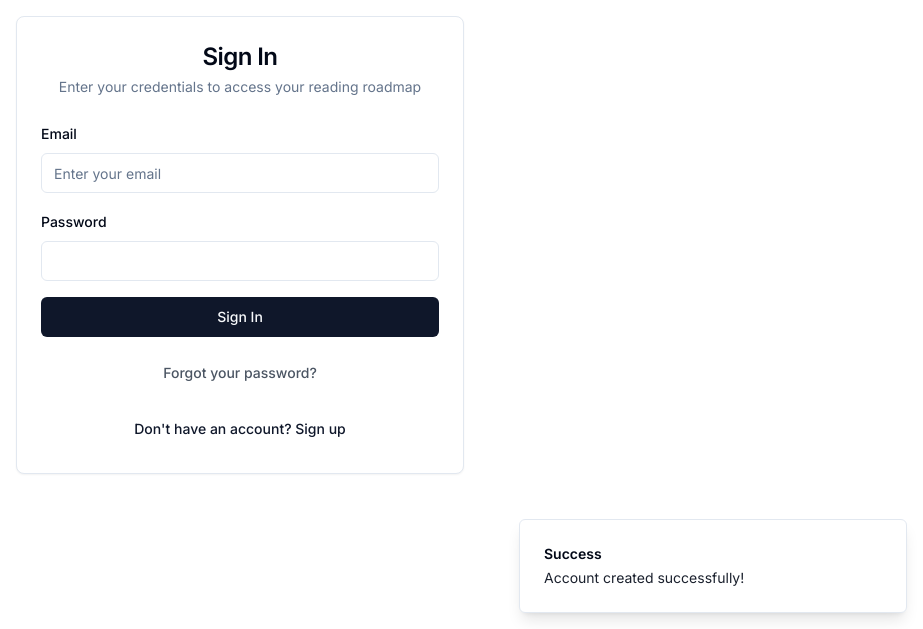
Test: Authentication Form › Registration › should handle registration errors properly
Click the button "Don't have an account? Sign up" at (240, 429), box [118, 409, 362, 449]
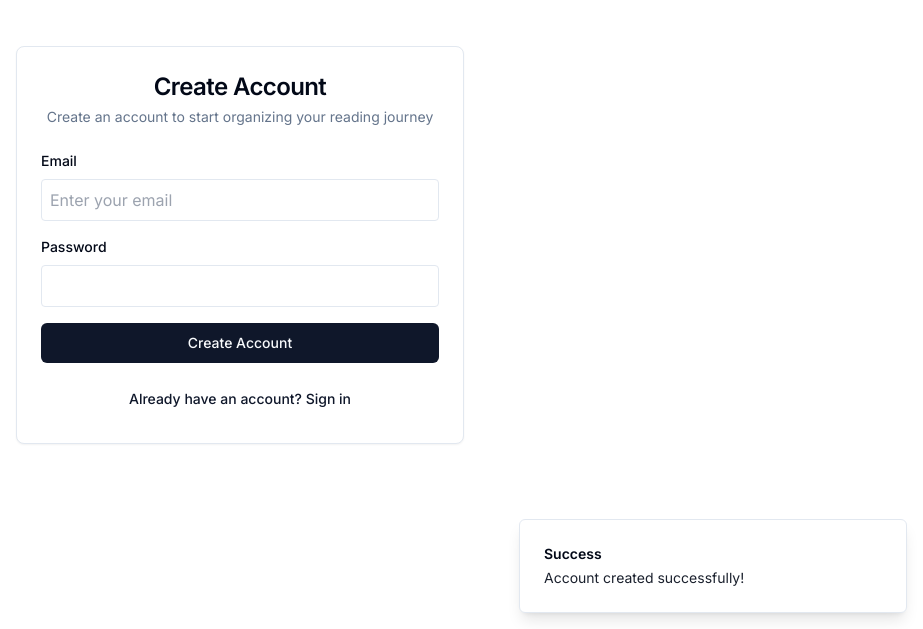
Type "existing@example.com" into the field with placeholder "Enter your email" at (240, 200), box [41, 179, 439, 221]
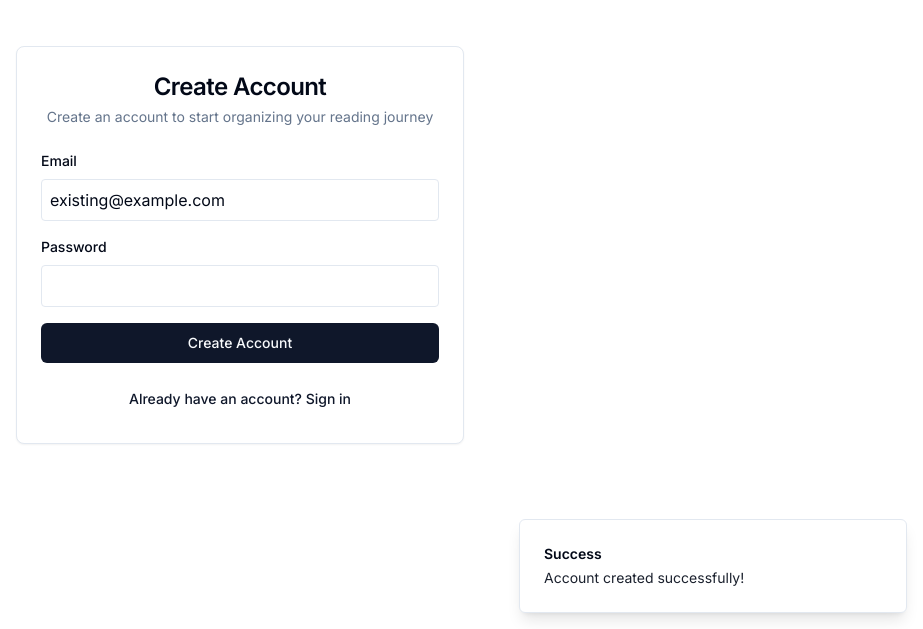
Type "password123" into the password field at (240, 286), box [41, 265, 439, 307]
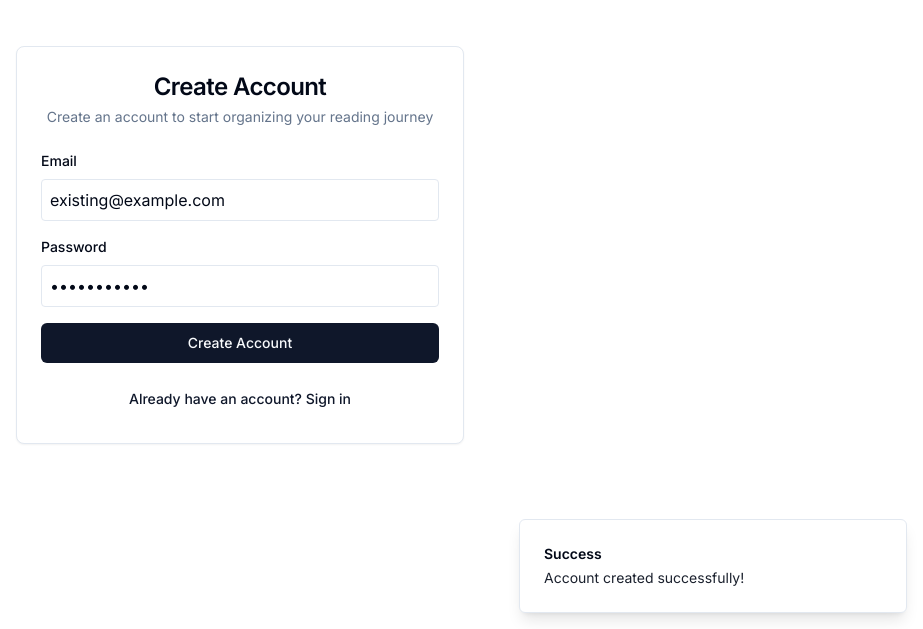
Click the button "Create Account" at (240, 343), box [41, 323, 439, 363]
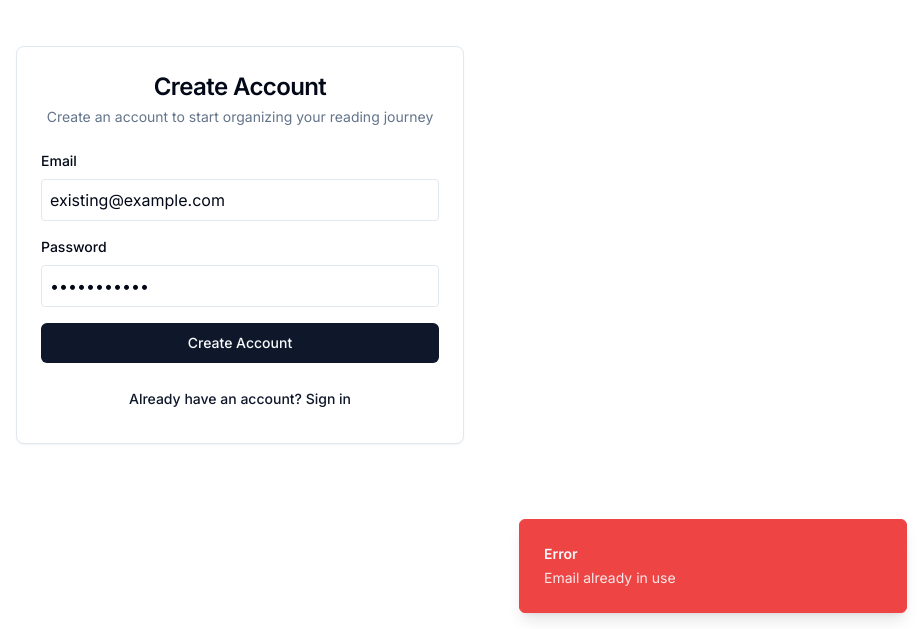
Check: the text "Error" is shown, box [544, 545, 578, 562]
Check: the text "Email already in use" is shown, box [544, 568, 676, 588]
